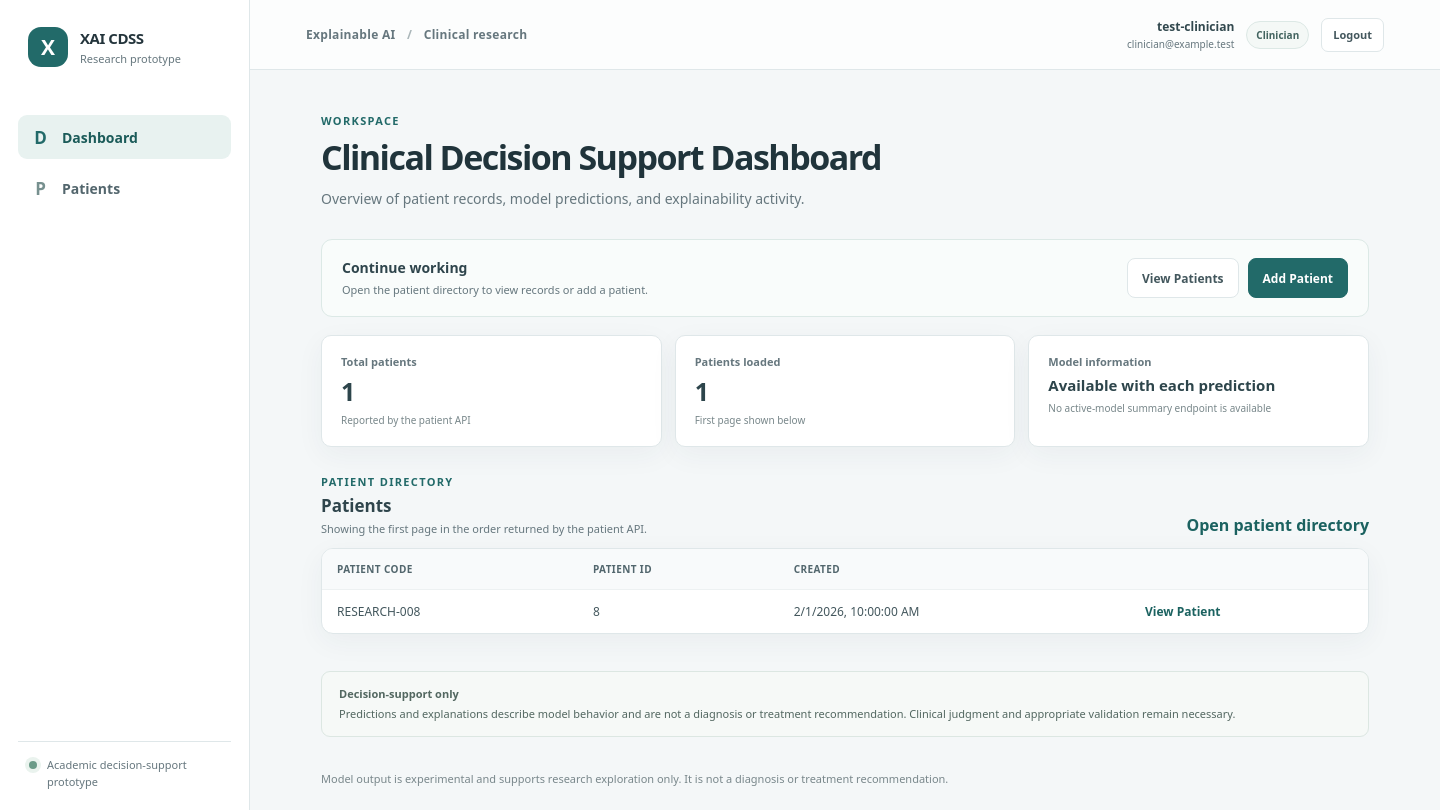
it: clinician dashboard › navigates to the selected patient details
Click the link "View Patient": (1183, 611) [1145, 603, 1220, 620]
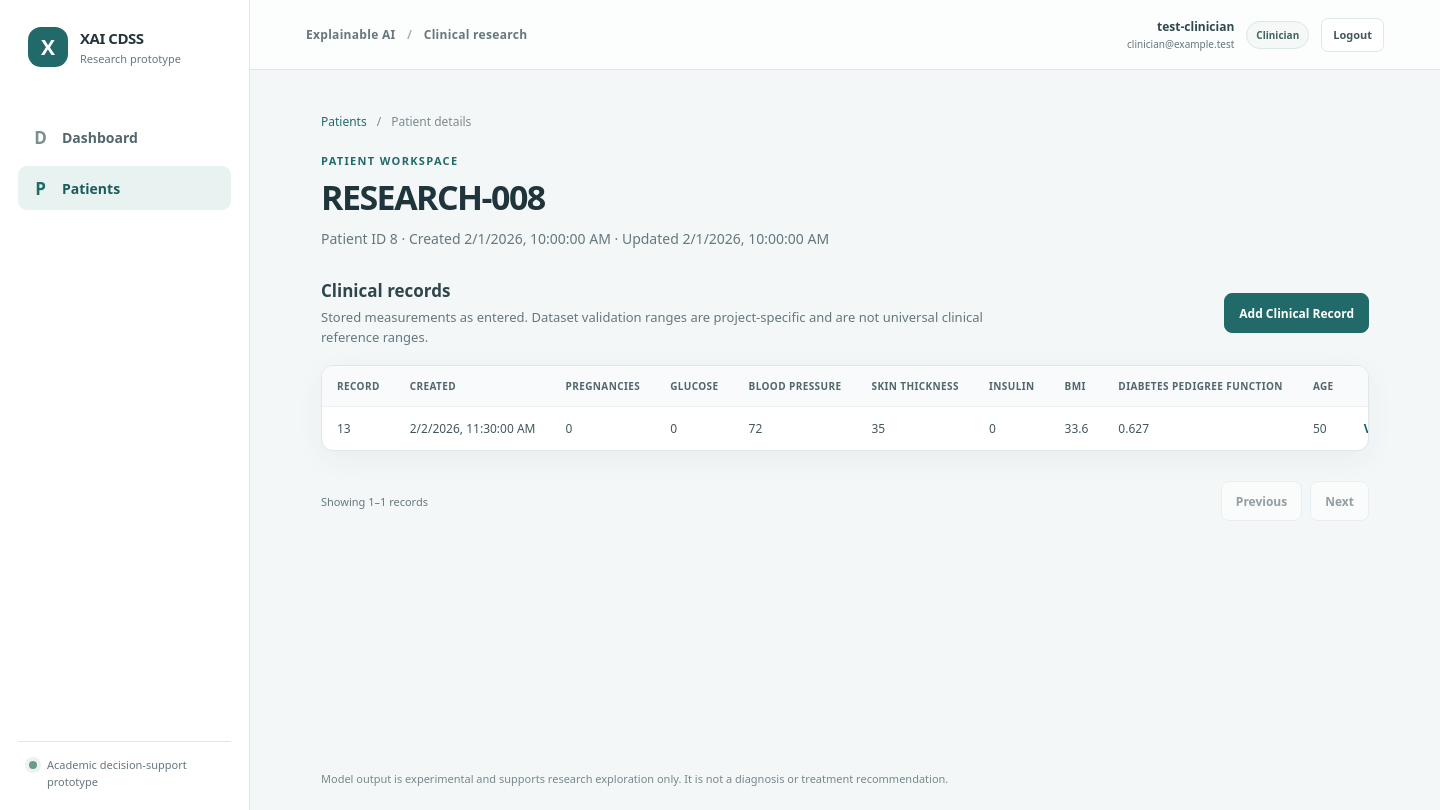
Check: the heading "RESEARCH-008" is shown, box [321, 174, 545, 220]
